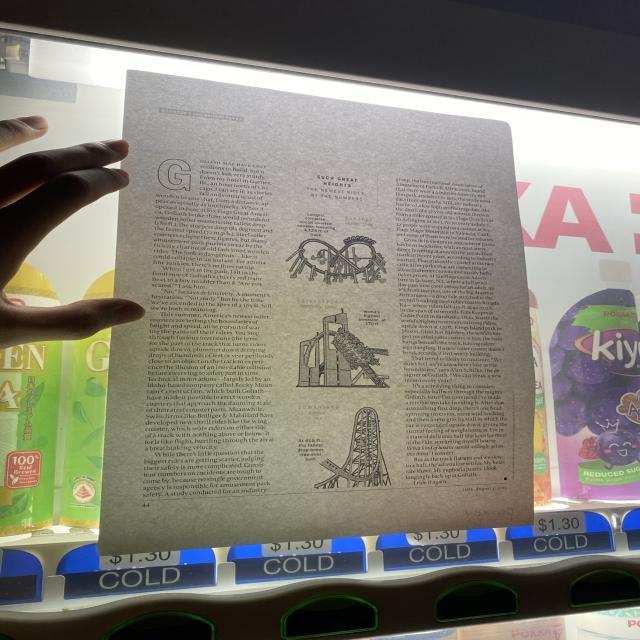document: (100, 71, 532, 554)
